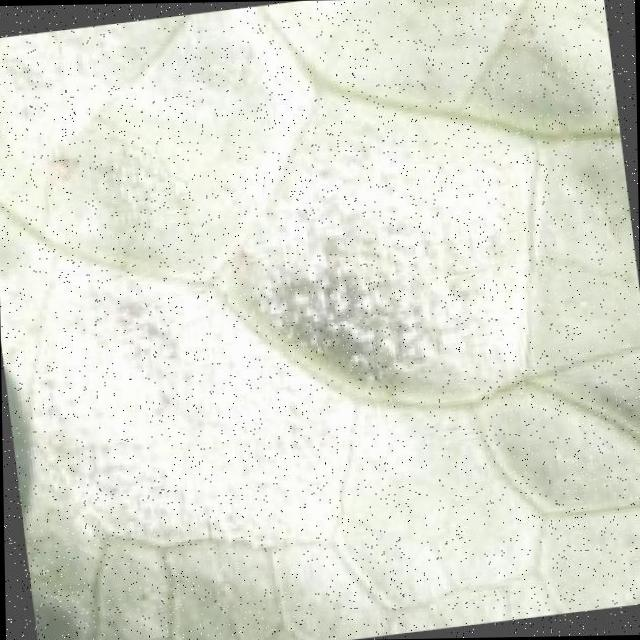Powdery_mildew_on_lettuce: (40, 143, 459, 576)
